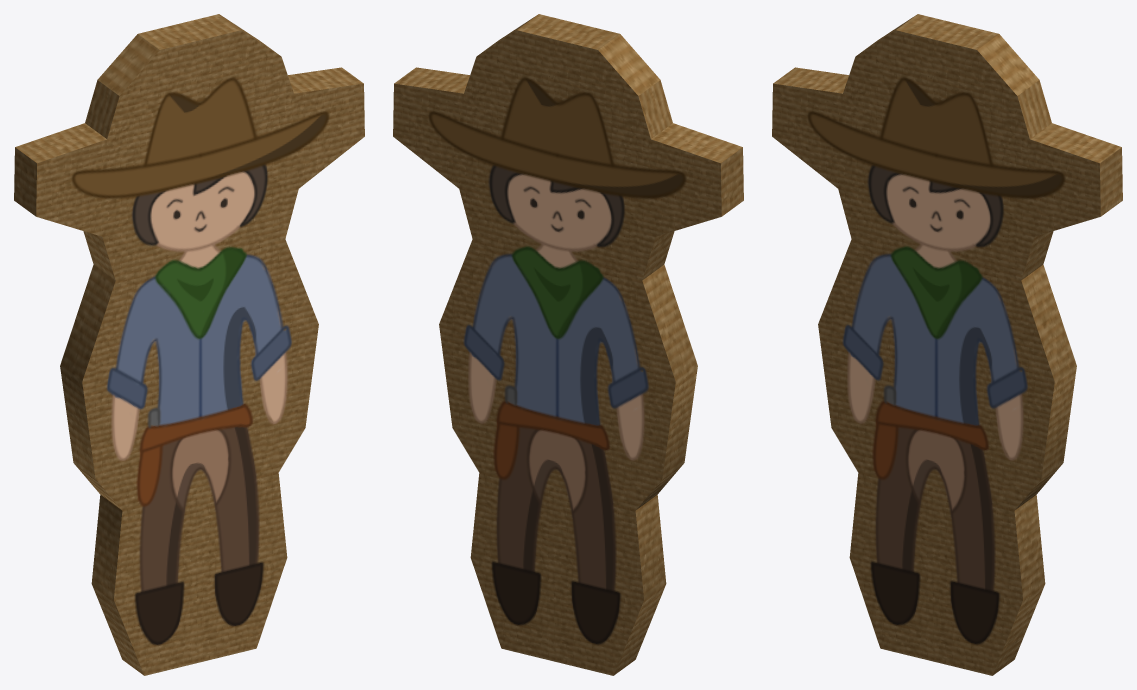
Rendered from Char_Cowboy_01.fbx.
The picture shows the model from 3 angles, left to right: view 1: azimuth 30°, elevation 25°; view 2: azimuth 150°, elevation 25°; view 3: azimuth 330°, elevation 25°; orthographic projection.
Parts seen in each view (by area): view 1: Cowboy_01; view 2: Cowboy_01; view 3: Cowboy_01.
Boxes of the visible parts, x1,y1,x2,y2 form: Cowboy_01: [14, 14, 364, 675]; Cowboy_01: [393, 14, 743, 675]; Cowboy_01: [772, 14, 1122, 675].
Bounding box in the file's own units: 0.6626 × 1.2 × 0.0773.
